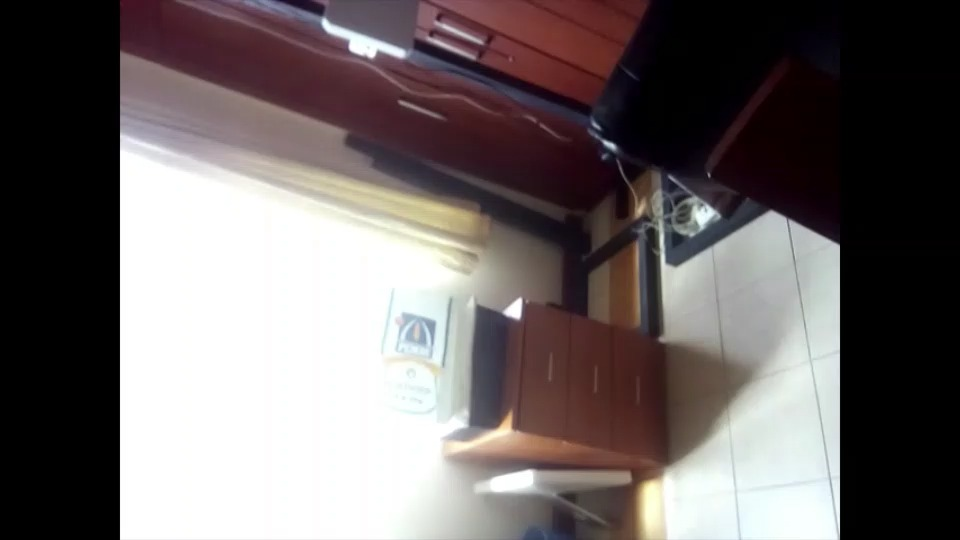wheat_flour_blue_label: (368, 284, 473, 423)
